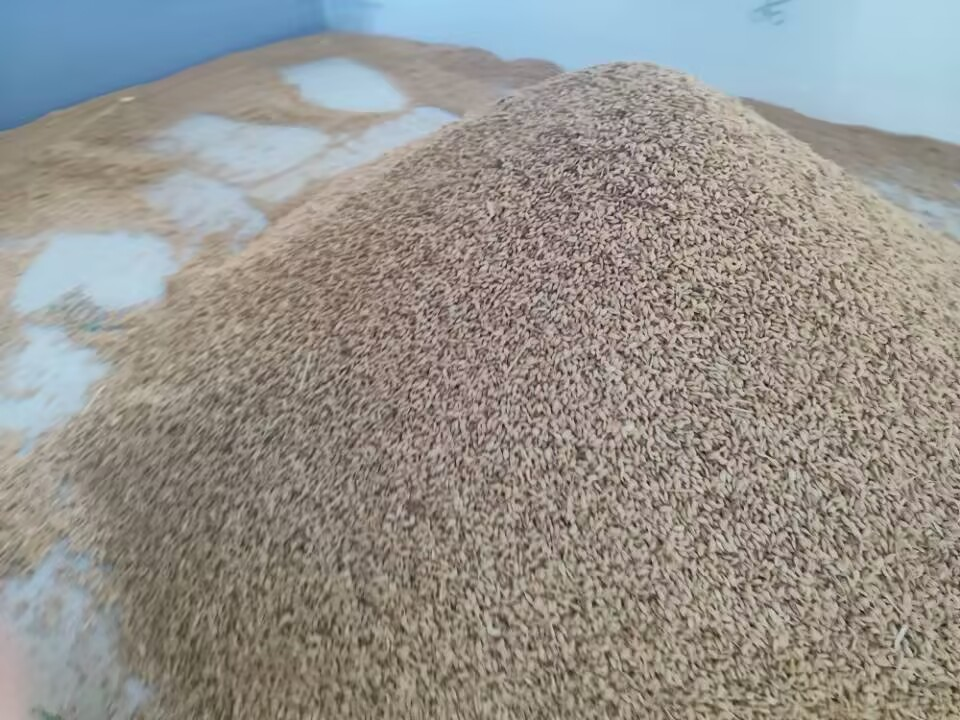Grain: (215, 57, 938, 678)
